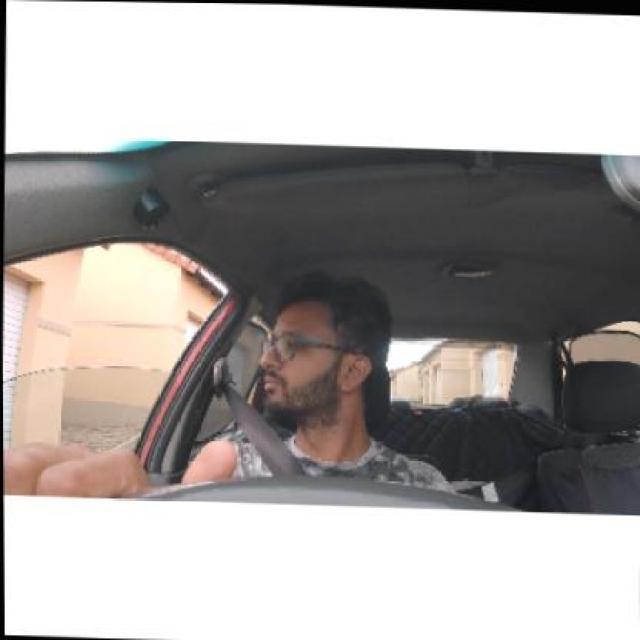LeftRight: (252, 283, 390, 417)
